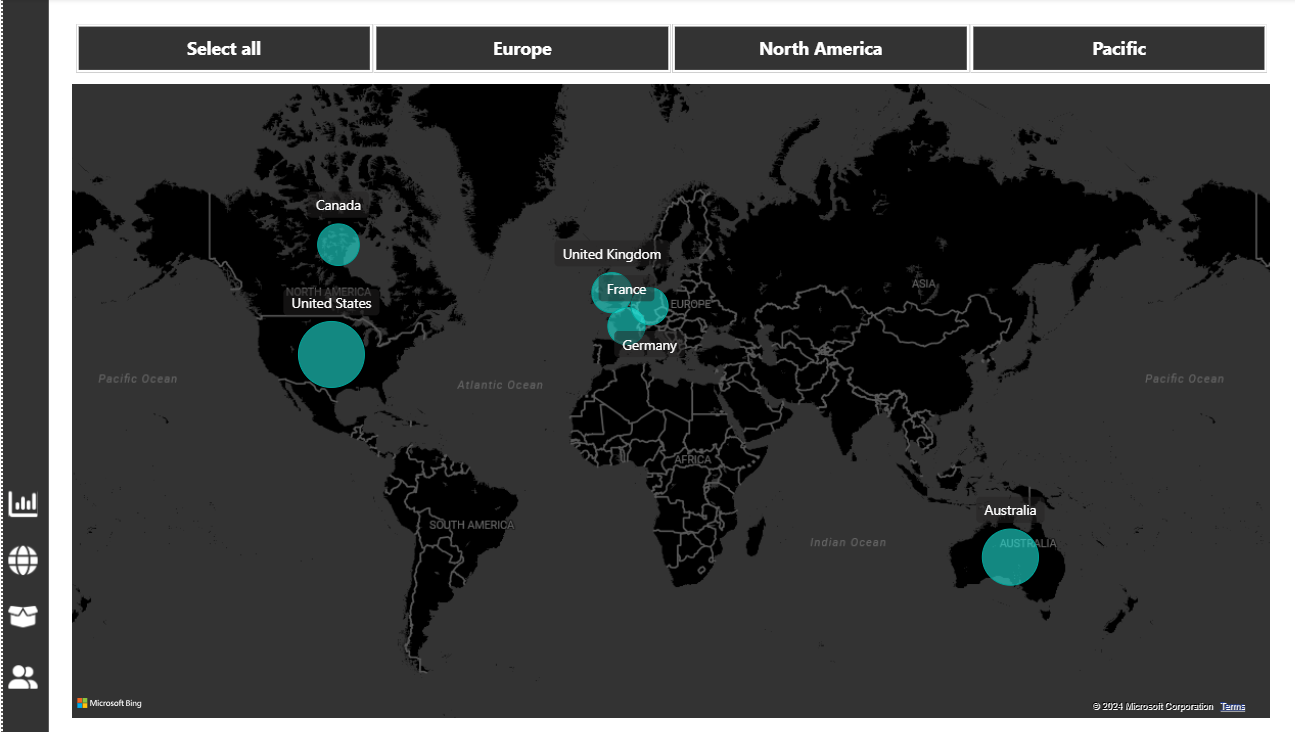

This screenshot's page, from the dashboard's own definition file:
{"tool":"powerbi","page":{"name":"Map","canvas":[1280,720],"ordinal":1},"visuals":[{"type":"shape","box":[0,0,45,720.2],"z":0},{"type":"actionButton","box":[0.9,472,36.7,46.5],"z":0,"group":"g1"},{"type":"actionButton","box":[0.9,527,36.7,46.5],"z":1000,"group":"g1"},{"type":"map","fields":{"Category":["Territory Lookup.Country"],"Size":["Measure Table.Total orders"]},"box":[62.4,79.5,1182.5,629.8],"z":1000},{"type":"slicer","fields":{"Values":["Territory Lookup.Continent"]},"box":[45.2,18.3,1215.5,61.1],"z":2000},{"type":"actionButton","box":[0.9,582.1,36.7,46.5],"z":2000,"group":"g1"},{"type":"actionButton","box":[0.9,637.1,36.7,53.8],"z":3000,"group":"g1"},{"type":"group","id":"g1","title":"nevigation buttons","box":[0.9,472,36.7,218.9],"z":3000}]}

Visuals, with their boxes on the page's 1280x720 design canvas (x1, y1, x2, y2). These are canvas units, not pixel positions in the 1295x732 screenshot, which may show the page scaled, cropped or inside an application window:
shape: box=[0, 0, 45, 720]
actionButton: box=[1, 472, 38, 518]
actionButton: box=[1, 527, 38, 574]
map - Territory Lookup.Country x Measure Table.Total orders: box=[62, 80, 1245, 709]
slicer - Territory Lookup.Continent: box=[45, 18, 1261, 79]
actionButton: box=[1, 582, 38, 629]
actionButton: box=[1, 637, 38, 691]
"nevigation buttons" group: box=[1, 472, 38, 691]
